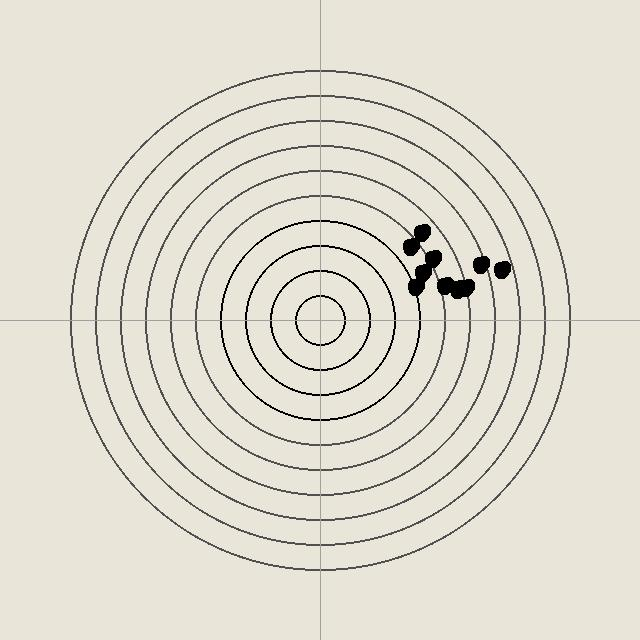good_group: (447, 279, 467, 299), (455, 277, 475, 297), (422, 248, 442, 268), (412, 262, 432, 282), (400, 236, 420, 256), (470, 254, 490, 274), (434, 275, 454, 295), (411, 222, 431, 242), (447, 278, 467, 298), (405, 276, 425, 296), (491, 259, 511, 279)
